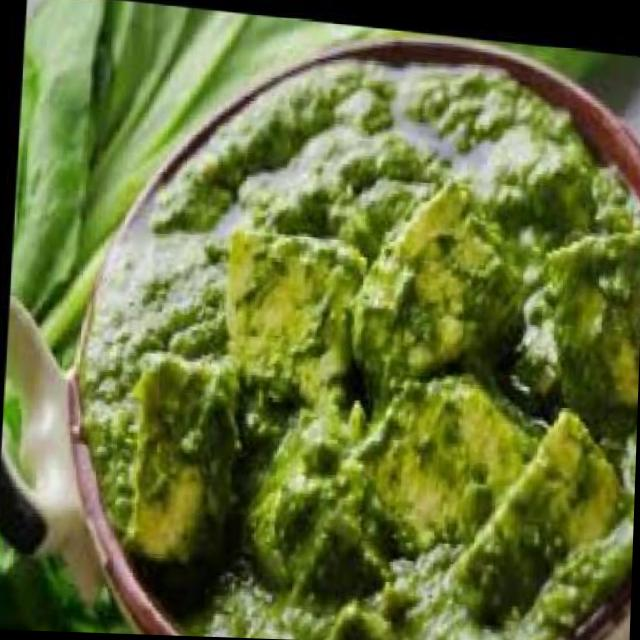palak_paneer: (61, 23, 640, 640)
